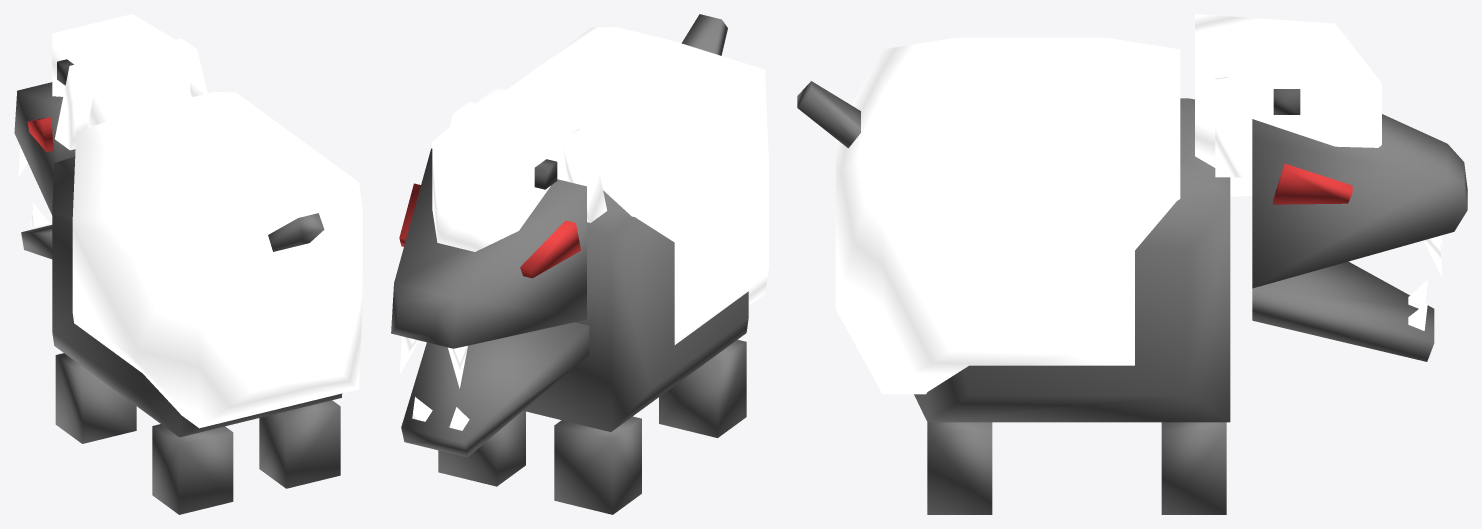
Rendered from wolf.glb.
The picture shows the model from 3 angles, left to right: view 1: azimuth 30°, elevation 25°; view 2: azimuth 150°, elevation 25°; view 3: azimuth 270°, elevation 25°; orthographic projection. The views are drawn at different scales.
Visible parts, largest first — view 1: louloup.01_(4).002; view 2: louloup.01_(4).002; view 3: louloup.01_(4).002.
Part boxes in pixels (x1,y1,x2,y2): louloup.01_(4).002: (14,14,362,514); louloup.01_(4).002: (391,14,768,514); louloup.01_(4).002: (797,14,1467,514).
Bounding box in the file's own units: 0.6771 × 1.01 × 1.42.
